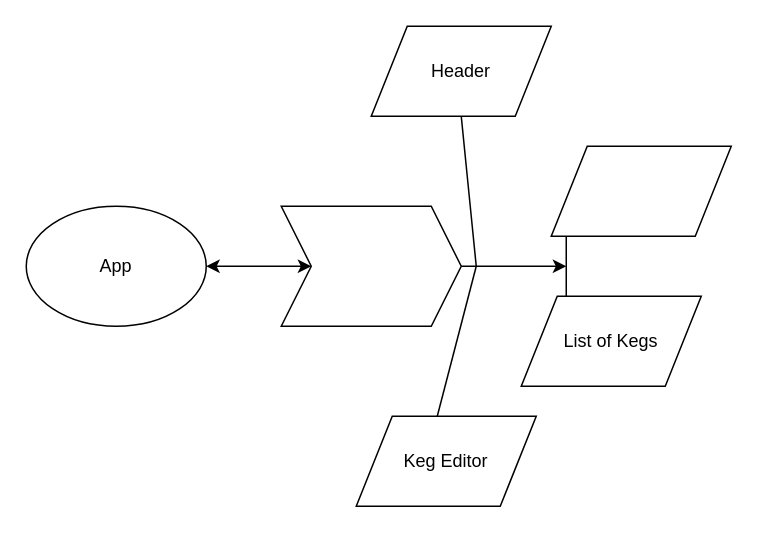
Image size: 758x533. Some labels were removed from this diagram. The box of each missing label's shape, as (x1, y1, x2, y2) in pixels:
Form to add Keg: (550, 145, 731, 236)
KegContext app provider: (280, 205, 461, 326)
